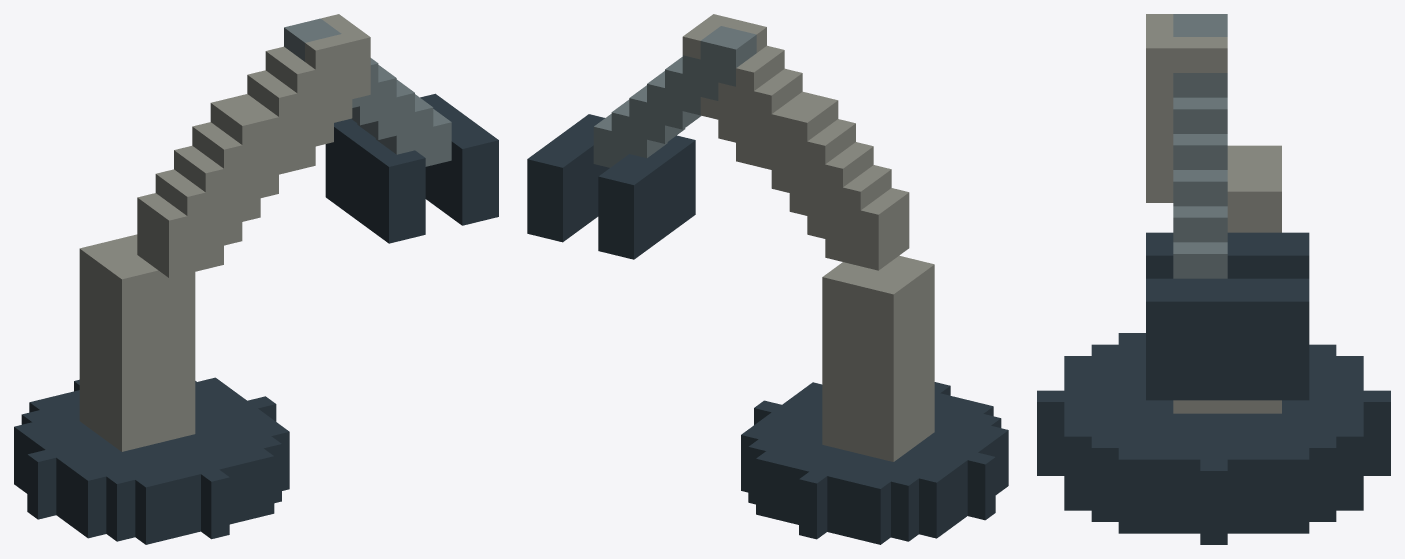
The model's file is manufacturing-01.glb.
3 renders of one model, left to right at view 1: azimuth 30°, elevation 25°; view 2: azimuth 150°, elevation 25°; view 3: azimuth 270°, elevation 25°, orthographic. The views are drawn at different scales.
Parts seen in each view (by area): view 1: Assembly arm; view 2: Assembly arm; view 3: Assembly arm.
Part boxes in pixels (left/top/right/bottom): Assembly arm: left=14, top=14, right=498, bottom=544; Assembly arm: left=527, top=14, right=1008, bottom=544; Assembly arm: left=1037, top=14, right=1390, bottom=544.
Bounding box in the file's own units: 1.92 × 1.76 × 1.04.
